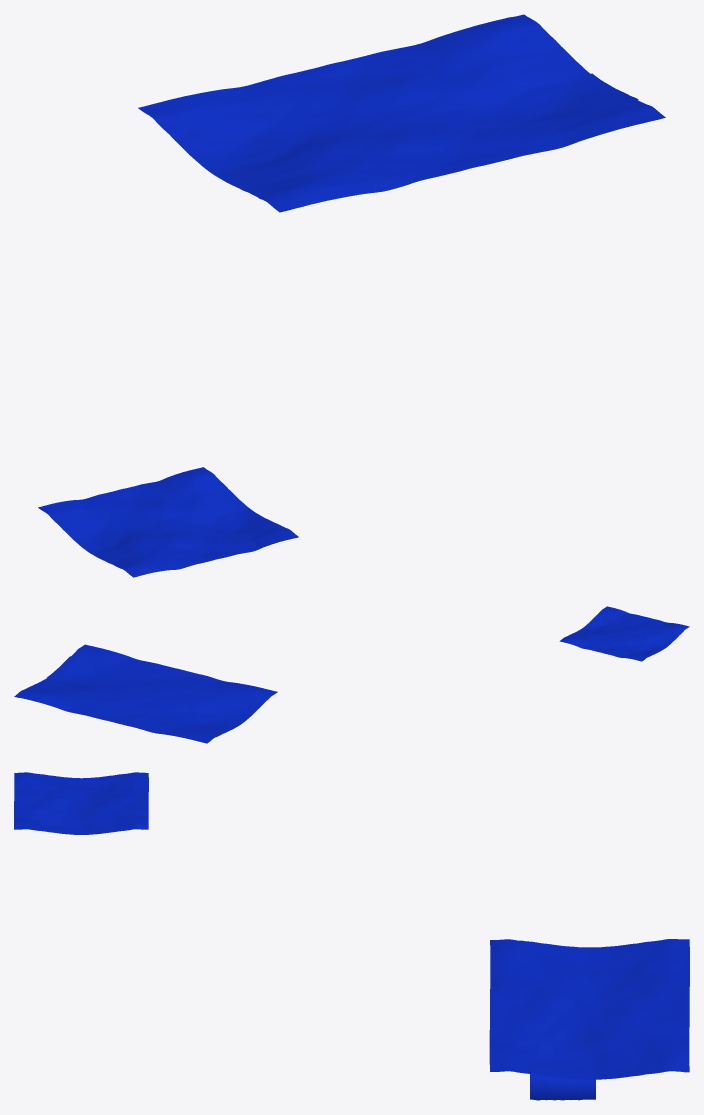
File: village_lake.glb
3 views of the same model, one above another, from view 1: azimuth 30°, elevation 25°; view 2: azimuth 150°, elevation 25°; view 3: azimuth 270°, elevation 25° (orthographic). The views are drawn at different scales.
Visible parts, largest first — view 1: 平面.001, 平面; view 2: 平面.001, 平面; view 3: 平面.001, 平面.
Part boxes in pixels (box(x1,y1,x2,y2)): 平面.001: box(138, 14, 665, 212); 平面: box(38, 467, 298, 577); 平面.001: box(14, 644, 277, 743); 平面: box(559, 606, 689, 661); 平面.001: box(489, 939, 689, 1100); 平面: box(14, 772, 148, 834).
Bounding box in the file's own units: 23.26 × 1.1 × 22.2.
